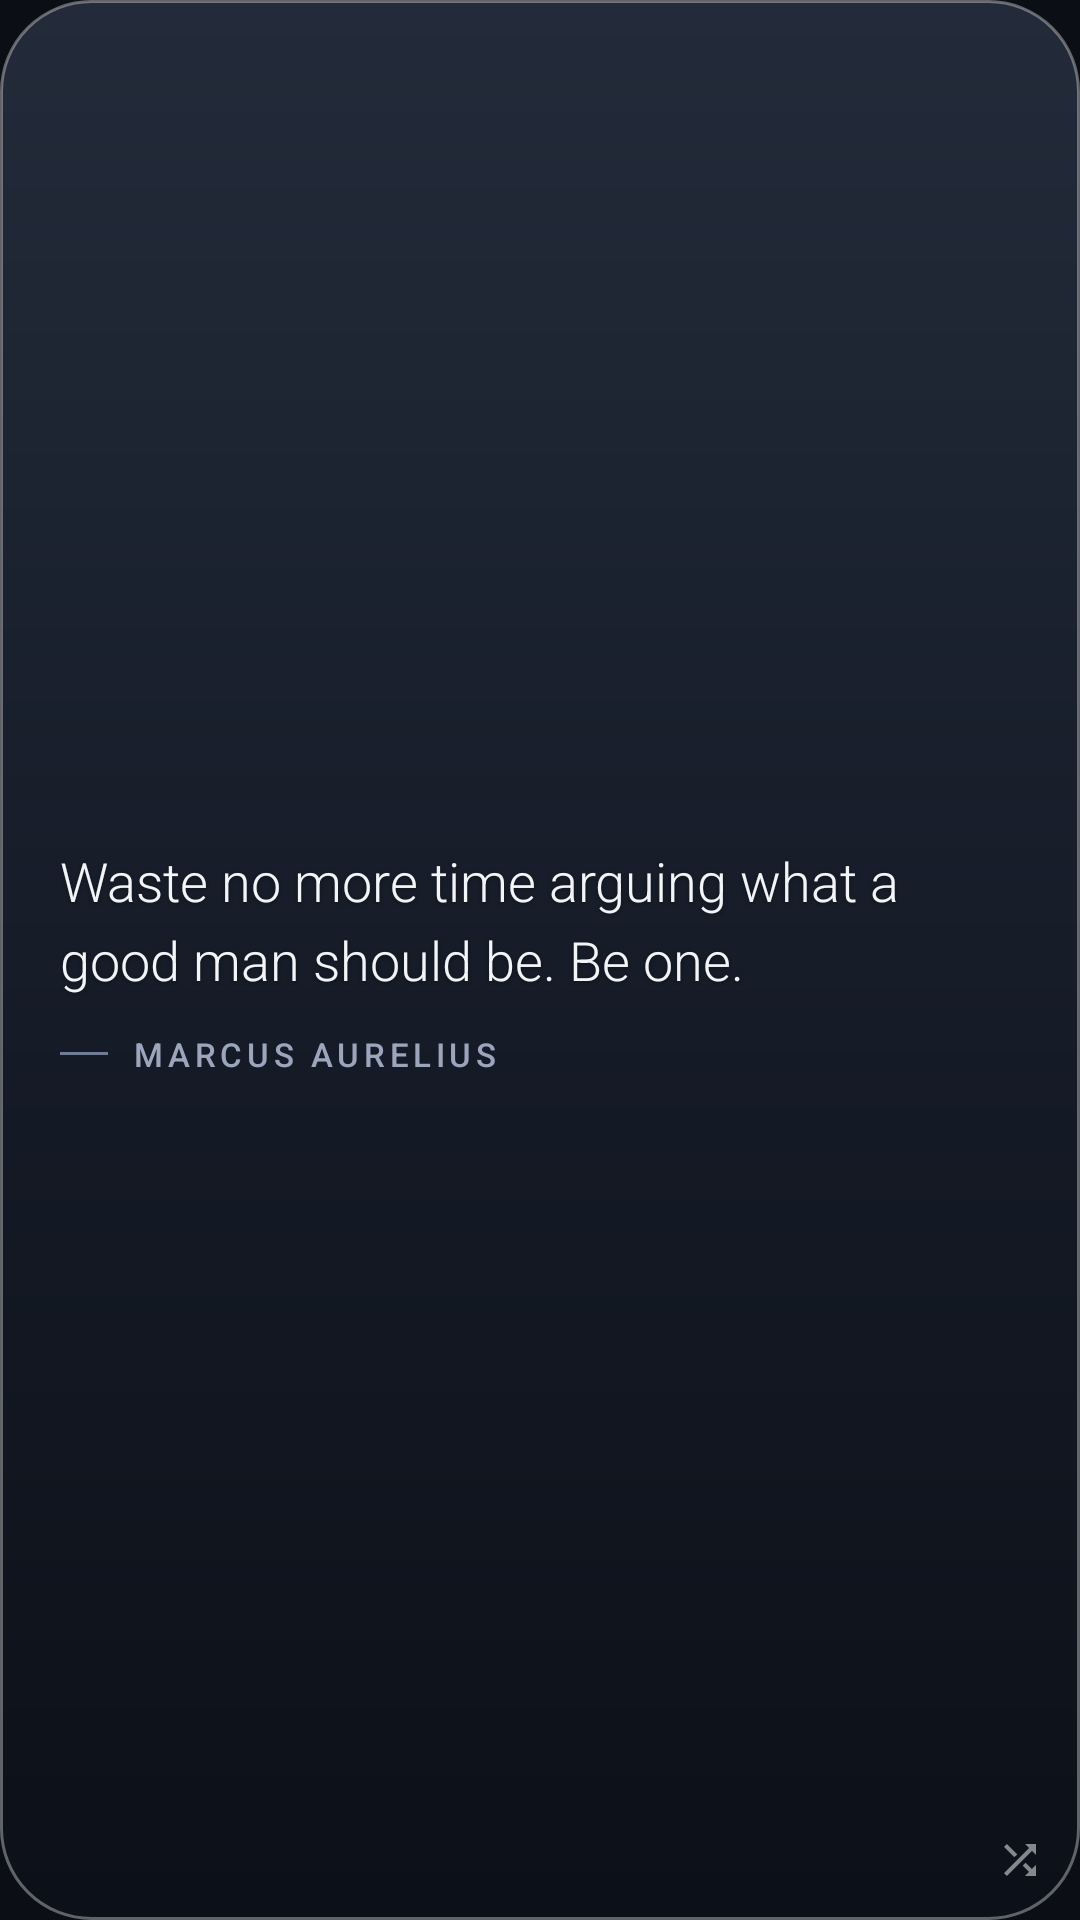

Where to tap for icons on this 1080x1920 app screen, as point (x, y):
Show another quote: point (1020, 1860)
